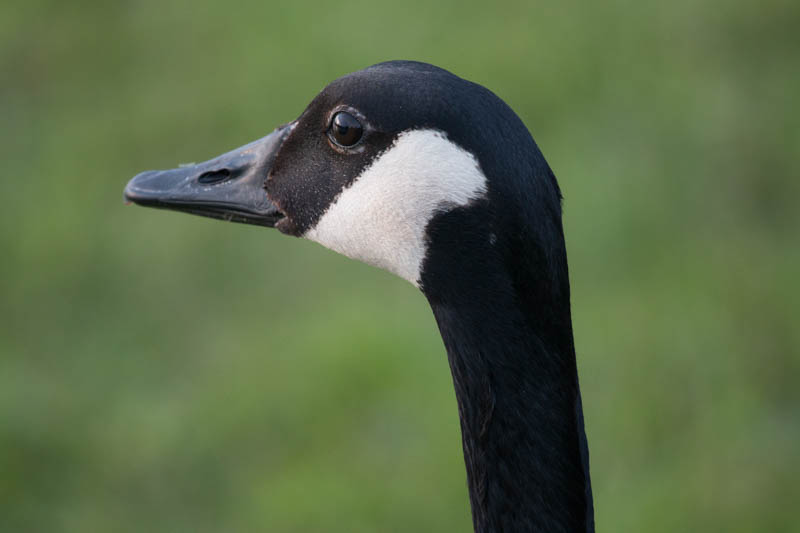goose-head: (122, 58, 563, 298)
